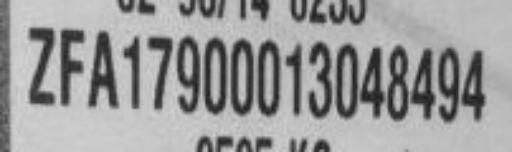letter: (20, 22, 60, 107), (52, 25, 88, 110), (86, 25, 120, 112), (142, 30, 176, 114), (198, 32, 232, 114), (226, 35, 258, 119), (329, 42, 361, 122), (459, 45, 491, 125), (357, 44, 389, 121), (172, 32, 202, 114), (279, 37, 309, 119), (304, 37, 334, 119), (433, 42, 463, 124), (410, 40, 438, 122), (386, 42, 412, 124), (120, 32, 146, 112), (256, 40, 280, 120)
